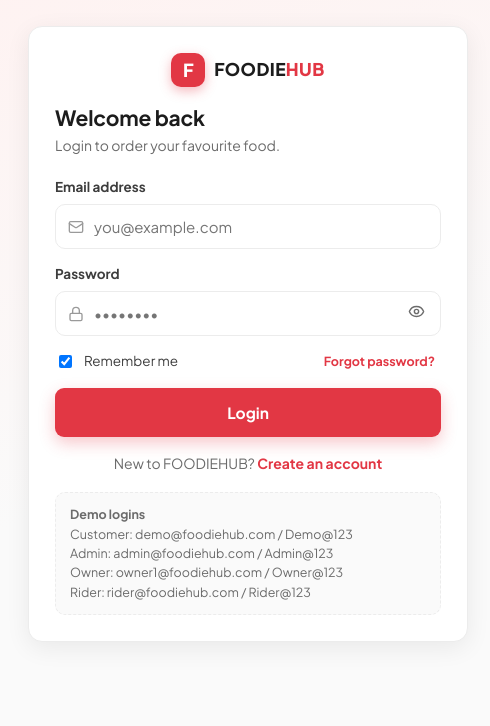
Test: LoginPage › shows validation error when fields are empty
Step 1. Click the button "Login" → (248,412), box [55,388,441,437]
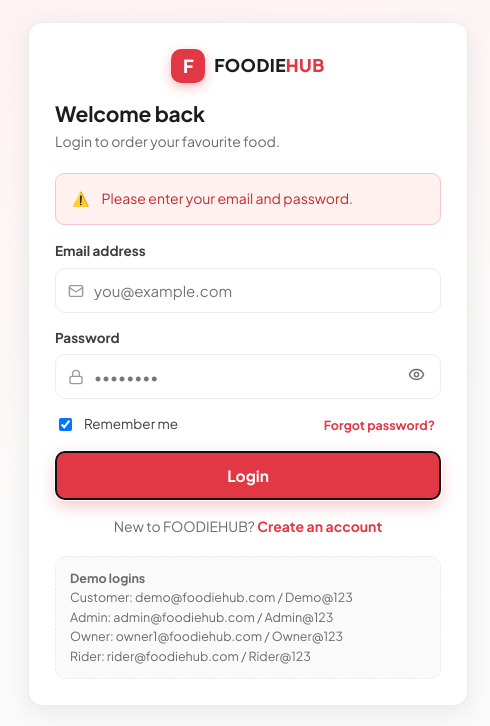
Result: the text "Please enter your email and password." is shown at [102,188,353,210]
